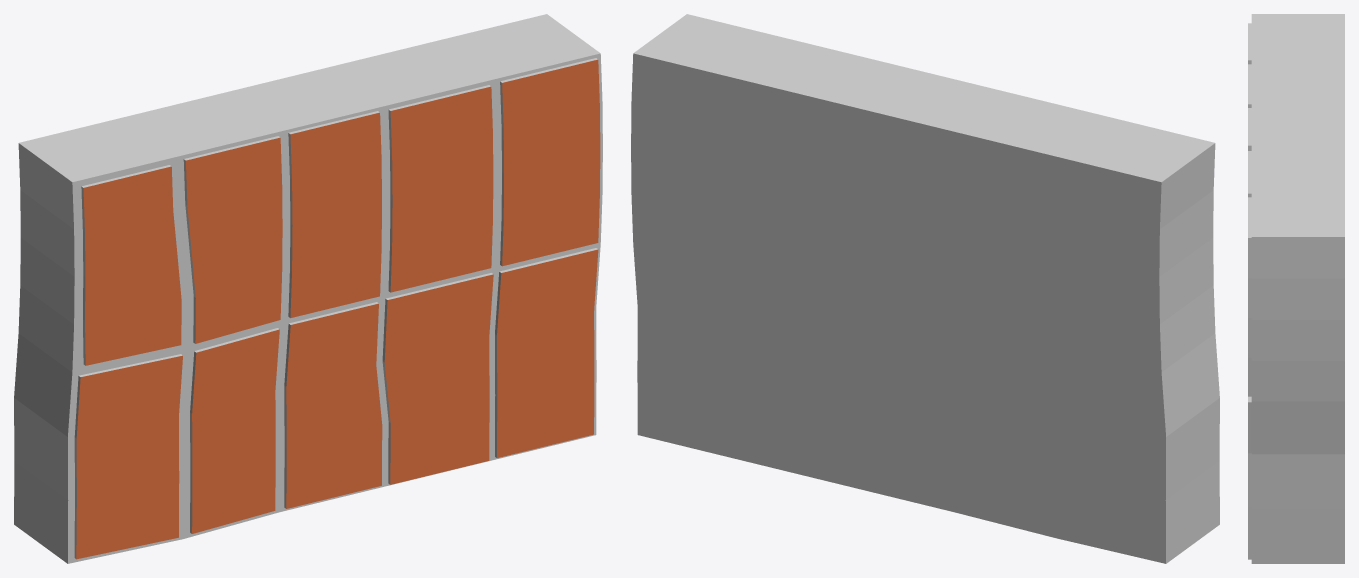
File: SM_Lockers.fbx
3 views of the same model, side by side, from view 1: azimuth 30°, elevation 25°; view 2: azimuth 150°, elevation 25°; view 3: azimuth 270°, elevation 25° (orthographic). The views are drawn at different scales.
Parts seen in each view (by area): view 1: Cube.008; view 2: Cube.008; view 3: Cube.008.
Part boxes in pixels (x1,y1,x2,y2): Cube.008: [14, 14, 602, 563]; Cube.008: [631, 14, 1219, 563]; Cube.008: [1248, 14, 1344, 563].
Size of the model in its own units: 608 by 417 by 110.
